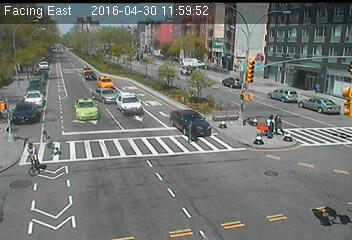neg: (302, 189, 330, 227), (108, 66, 132, 98), (222, 181, 246, 212), (97, 134, 119, 164), (156, 153, 178, 181), (16, 62, 37, 90), (62, 52, 81, 78), (278, 57, 297, 83), (227, 51, 245, 76), (184, 42, 200, 64), (252, 131, 265, 149)
pos: (19, 139, 42, 171), (181, 118, 200, 144), (39, 126, 57, 150), (274, 112, 290, 132), (265, 114, 277, 130)
